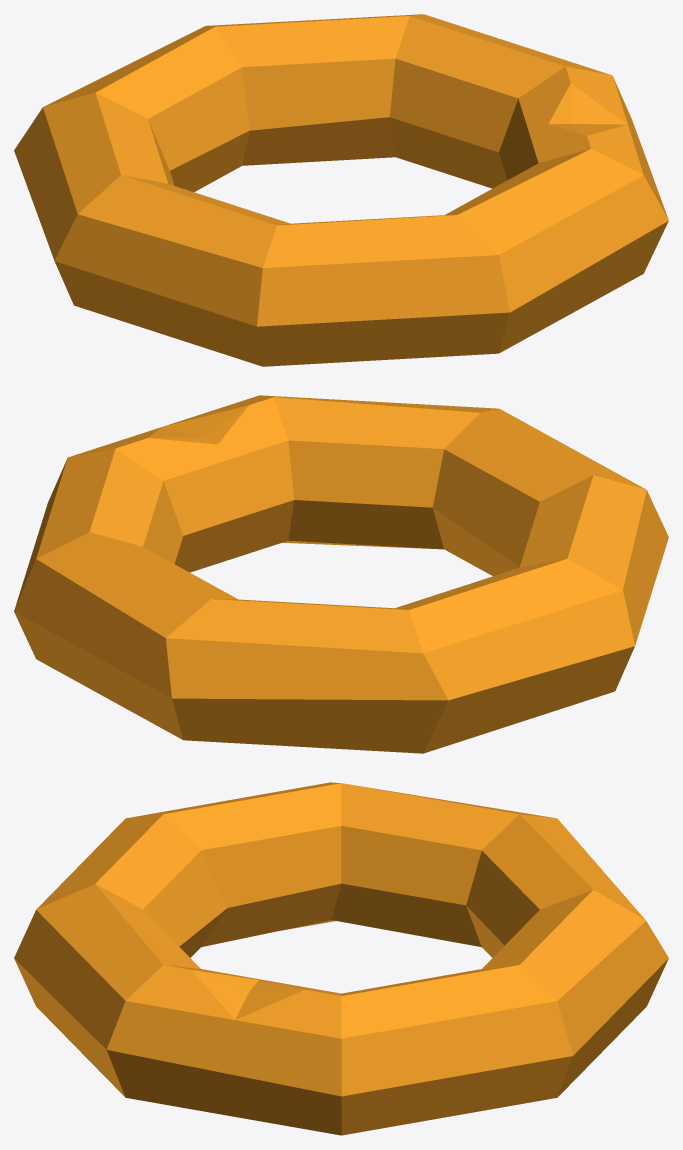
3 views of the same model, one above another, from view 1: azimuth 30°, elevation 25°; view 2: azimuth 150°, elevation 25°; view 3: azimuth 270°, elevation 25° (orthographic). The views are drawn at different scales.
Visible parts, largest first — view 1: SM_Primitive_Torus_01P; view 2: SM_Primitive_Torus_01P; view 3: SM_Primitive_Torus_01P.
Boxes of the visible parts, x1,y1,x2,y2 form: SM_Primitive_Torus_01P: (14, 14, 668, 366); SM_Primitive_Torus_01P: (14, 395, 668, 753); SM_Primitive_Torus_01P: (14, 782, 668, 1135).
Bounding box in the file's own units: 99.73 × 23.19 × 99.73.
